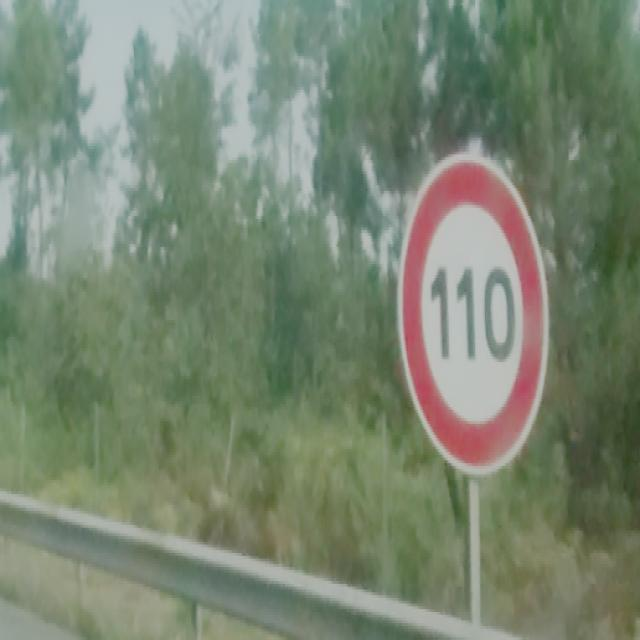speed_110: (396, 148, 552, 476)
